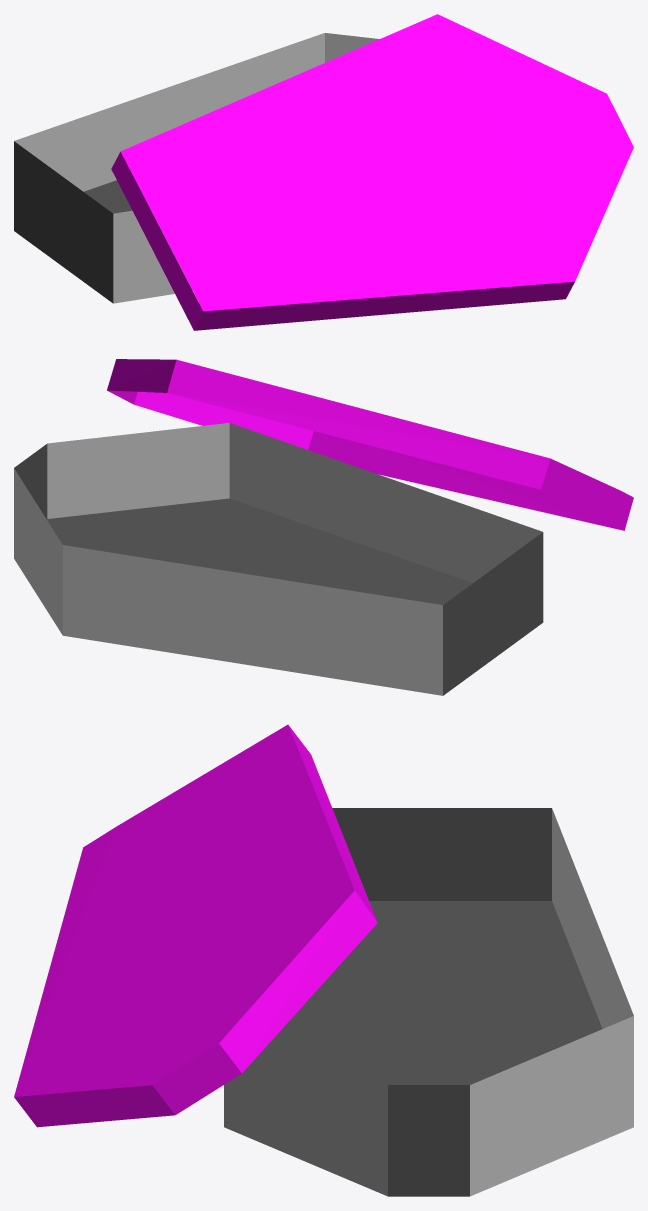
The model's file is coffin2.obj.
3 views of the same model, one above another, from view 1: azimuth 30°, elevation 25°; view 2: azimuth 150°, elevation 25°; view 3: azimuth 270°, elevation 25° (orthographic). The views are drawn at different scales.
Parts seen in each view (by area): view 1: coffin2_back; view 2: coffin2_back; view 3: coffin2_back.
Part boxes in pixels (x1,y1,x2,y2): coffin2_back: (14, 14, 633, 330); coffin2_back: (14, 359, 633, 695); coffin2_back: (14, 724, 633, 1196).
Bounding box in the file's own units: 2.56 × 1.02 × 2.42.
